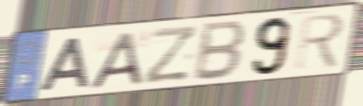9: (249, 15, 296, 77)
A: (87, 30, 144, 91), (38, 35, 92, 94)
B: (191, 18, 250, 83)
R: (293, 11, 347, 71)
Z: (141, 23, 200, 87)
